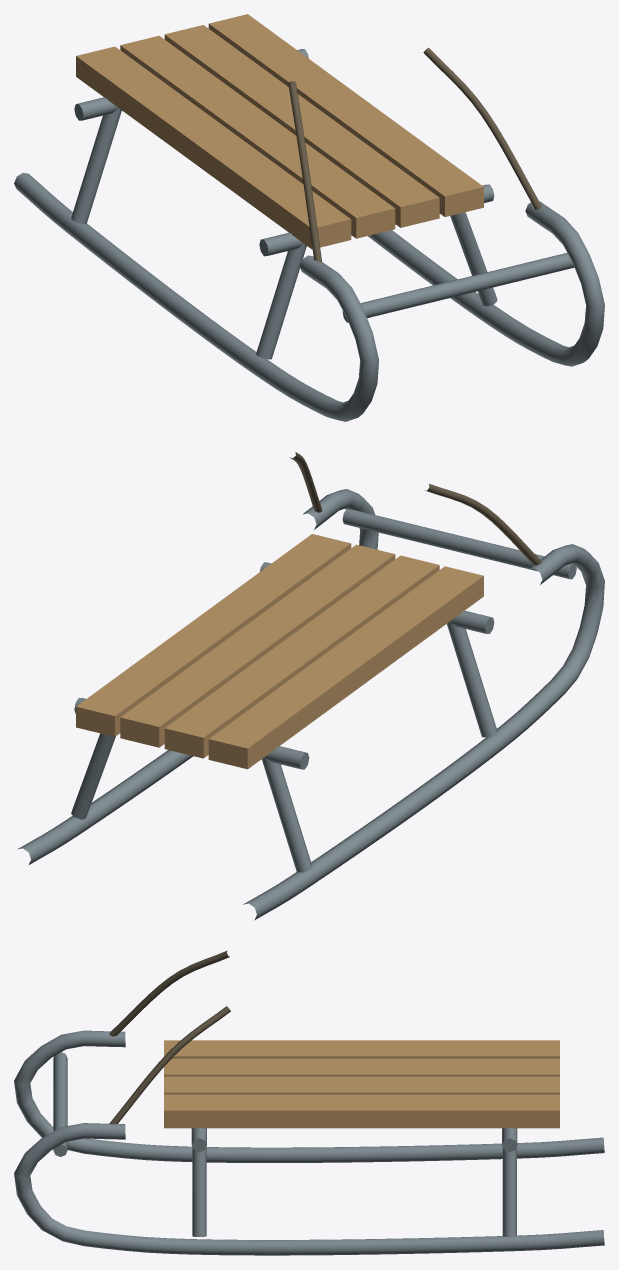
Rendered from sled.glb.
3 renders of one model, top to bottom at view 1: azimuth 30°, elevation 25°; view 2: azimuth 150°, elevation 25°; view 3: azimuth 270°, elevation 25°, orthographic. The views are drawn at different scales.
Visible parts, largest first — view 1: seat.slat.0, runner.left, seat.slat.3, seat.slat.1, seat.slat.2, runner.right, seat.support (×3), nose.crossbar, steering.rope (×2), seat.crossbar (×2); view 2: seat.slat.0, runner.left, seat.slat.1, seat.slat.2, seat.slat.3, seat.support (×3), runner.right, nose.crossbar, seat.crossbar (×2), steering.rope; view 3: seat.slat.3, runner.right, runner.left, seat.slat.2, seat.slat.1, seat.slat.0, seat.support (×2), steering.rope (×2), nose.crossbar.
Boxes of the visible parts, x1,y1,x2,y2 form: seat.slat.0: [76, 46, 351, 249]; runner.left: [14, 172, 378, 421]; seat.slat.3: [208, 14, 483, 216]; seat.slat.1: [120, 35, 395, 238]; seat.slat.2: [164, 25, 439, 227]; runner.right: [368, 201, 604, 366]; seat.support (×3): [71, 108, 497, 359]; nose.crossbar: [342, 253, 574, 322]; steering.rope (×2): [288, 47, 541, 262]; seat.crossbar (×2): [74, 49, 494, 256]; seat.slat.0: [208, 566, 483, 769]; runner.left: [243, 544, 604, 920]; seat.slat.1: [164, 555, 439, 758]; seat.slat.2: [120, 544, 395, 747]; seat.slat.3: [76, 534, 351, 736]; seat.support (×3): [71, 622, 497, 872]; runner.right: [17, 489, 378, 864]; nose.crossbar: [342, 509, 576, 579]; seat.crossbar (×2): [74, 562, 494, 769]; steering.rope: [424, 484, 541, 565]; seat.slat.3: [164, 1094, 559, 1128]; runner.right: [14, 1123, 604, 1255]; runner.left: [14, 1030, 604, 1162]; seat.slat.2: [164, 1076, 559, 1094]; seat.slat.1: [164, 1058, 559, 1076]; seat.slat.0: [164, 1040, 559, 1058]; seat.support (×2): [192, 1147, 516, 1236]; steering.rope (×2): [109, 950, 230, 1124]; nose.crossbar: [53, 1052, 67, 1156].
Size of the model in its own units: 0.796 by 0.8604 by 2.
